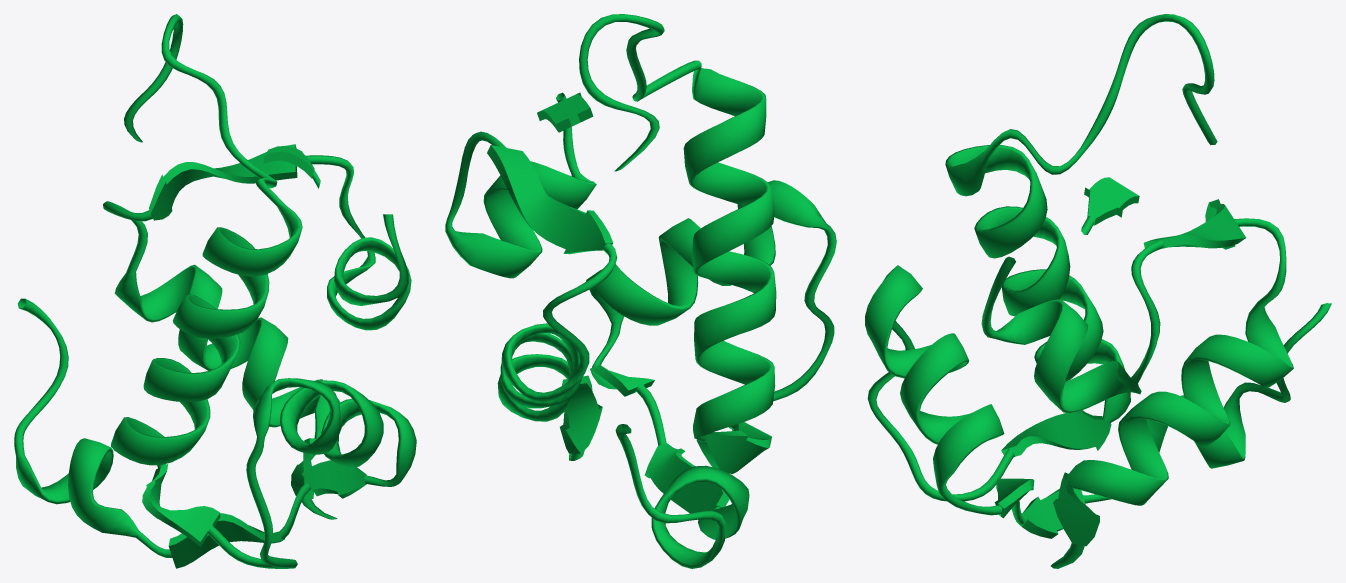
File: downloadGLTF.gltf
The picture shows the model from 3 angles, left to right: view 1: azimuth 30°, elevation 25°; view 2: azimuth 150°, elevation 25°; view 3: azimuth 270°, elevation 25°; orthographic projection. The views are drawn at different scales.
Parts seen in each view (by area): view 1: Test_Export; view 2: Test_Export; view 3: Test_Export.
Boxes of the visible parts, x1,y1,x2,y2 form: Test_Export: (14, 14, 416, 568); Test_Export: (445, 14, 836, 568); Test_Export: (865, 14, 1331, 568).
Size of the model in its own units: 1.15 by 1.81 by 1.45.
